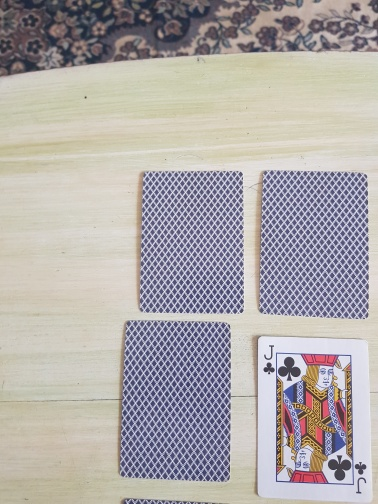jack: (256, 334, 374, 504)
